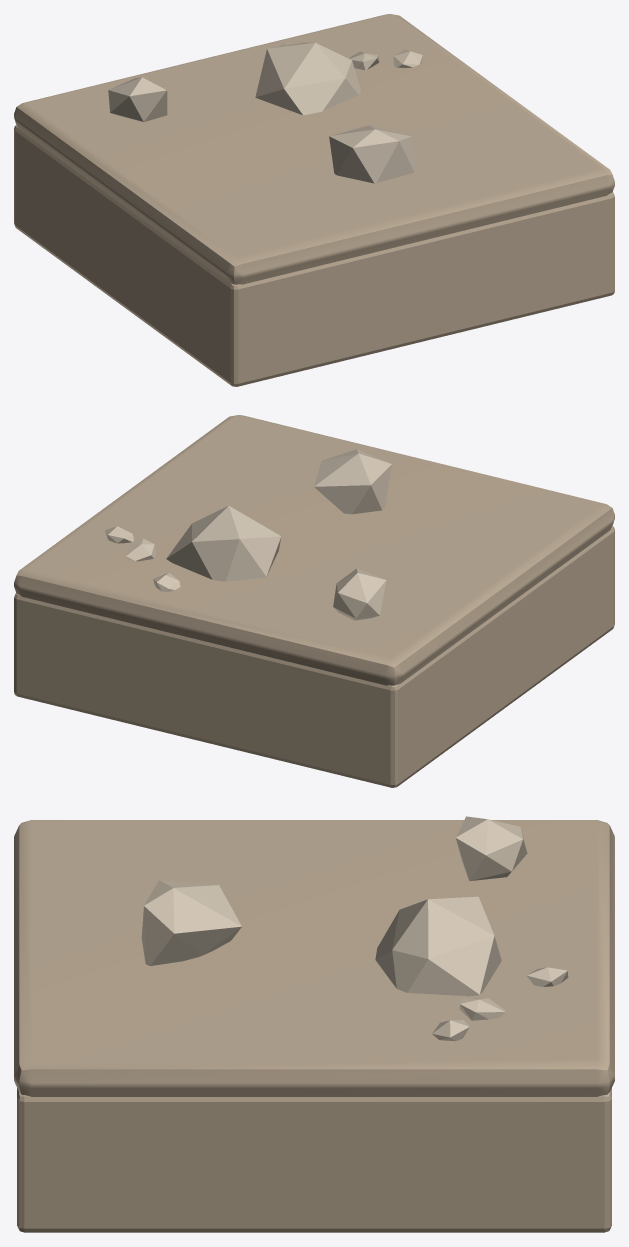
The model's file is tile_stone_clearing.glb.
3 views of the same model, one above another, from view 1: azimuth 30°, elevation 25°; view 2: azimuth 150°, elevation 25°; view 3: azimuth 270°, elevation 25° (orthographic). The views are drawn at different scales.
Parts seen in each view (by area): view 1: sc_cap, sc_body, sc_r1, sc_r2, sc_r0; view 2: sc_cap, sc_body, sc_r1, sc_r2, sc_r0, scp_peb3; view 3: sc_cap, sc_body, sc_r1, sc_r2, sc_r0, scp_peb3, scp_peb2, scp_peb1.
Boxes of the visible parts, x1,y1,x2,y2 form: sc_cap: (14,14,614,284); sc_body: (14,125,614,386); sc_r1: (255,42,360,115); sc_r2: (329,125,415,183); sc_r0: (108,77,167,122); sc_cap: (14,415,614,685); sc_body: (14,526,614,787); sc_r1: (166,505,281,581); sc_r2: (314,449,391,514); sc_r0: (333,568,386,620); scp_peb3: (126,538,155,561); sc_cap: (14,820,614,1096); sc_body: (17,1088,611,1232); sc_r1: (375,896,501,996); sc_r2: (141,880,241,965); sc_r0: (455,816,527,880); scp_peb3: (459,998,505,1020); scp_peb2: (526,967,568,986); scp_peb1: (432,1020,469,1041).
Bounding box in the file's own units: 2.02 × 0.8859 × 2.02.
